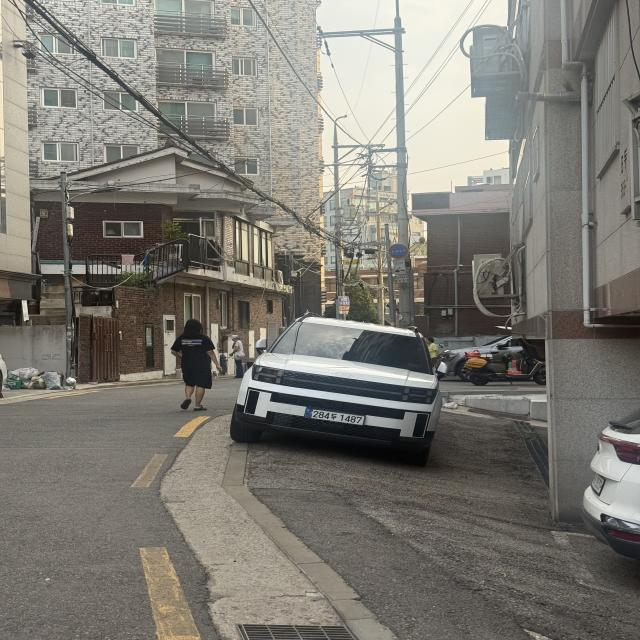car: (222, 300, 469, 480)
